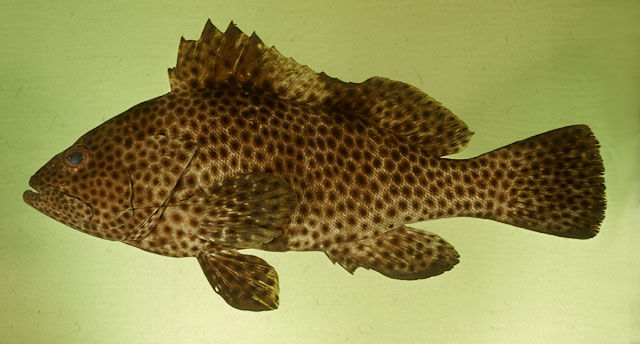fish: (23, 19, 607, 312)
